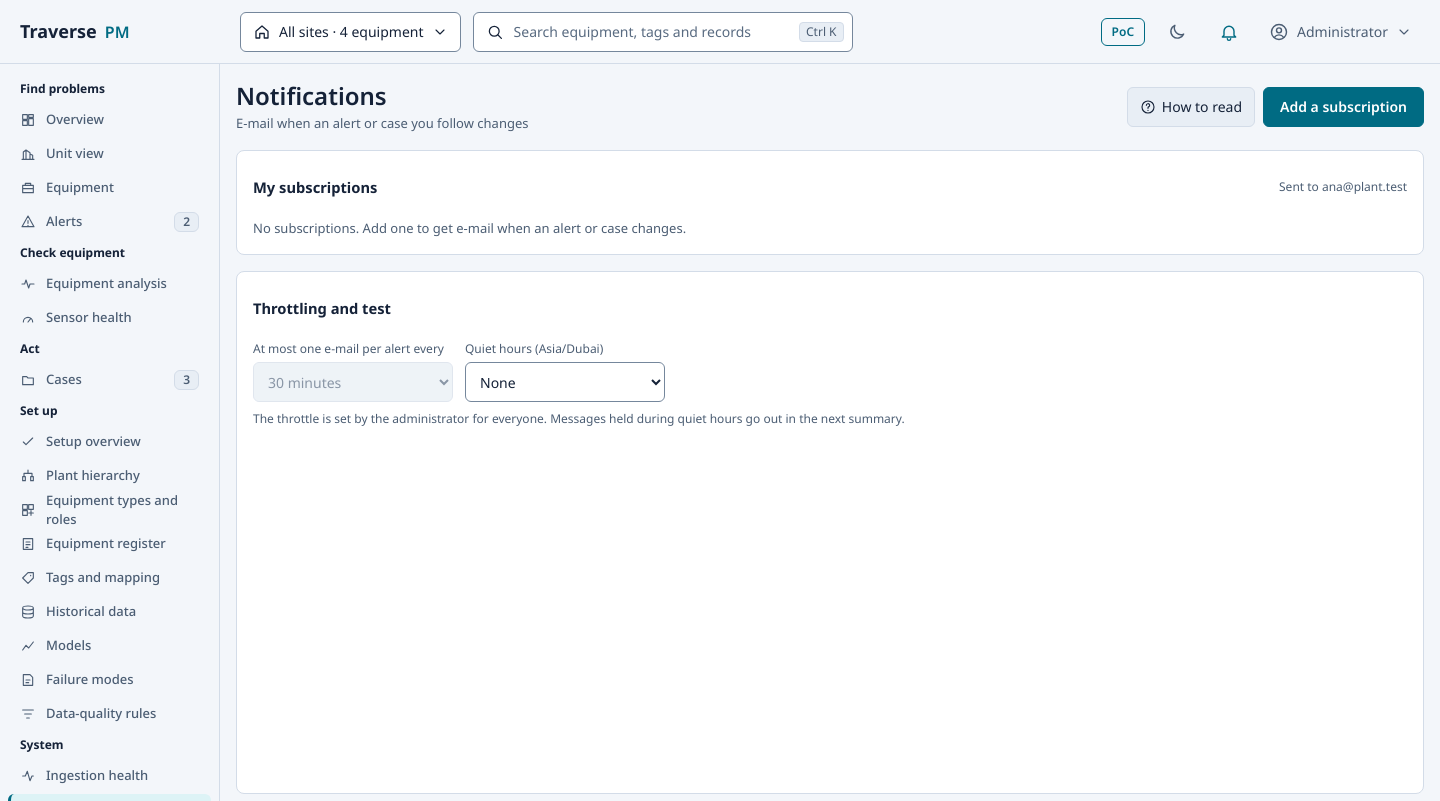
notifications › lets any user subscribe to their own e-mail notifications
Expected: the text "No subscriptions" is shown, [253, 218, 686, 236]
Expected: the text "Sent to ana@plant.test" is shown, [1279, 178, 1407, 196]
Click the button "Add a subscription". click: [1344, 107]
box: [1263, 87, 1424, 127]
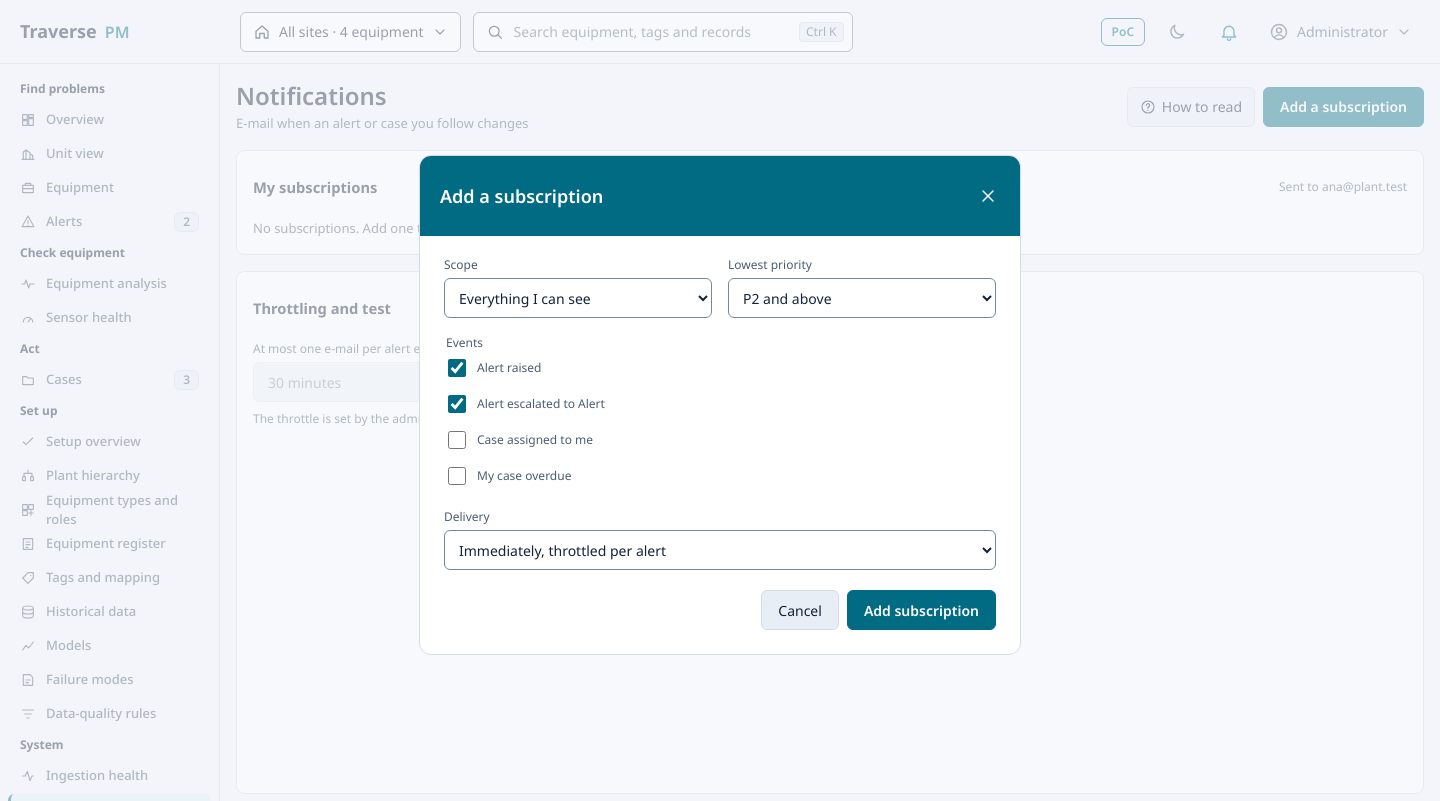
Select "P1 only" in the dropdown labelled "Lowest priority". click: [862, 298]
box: [728, 278, 996, 318]
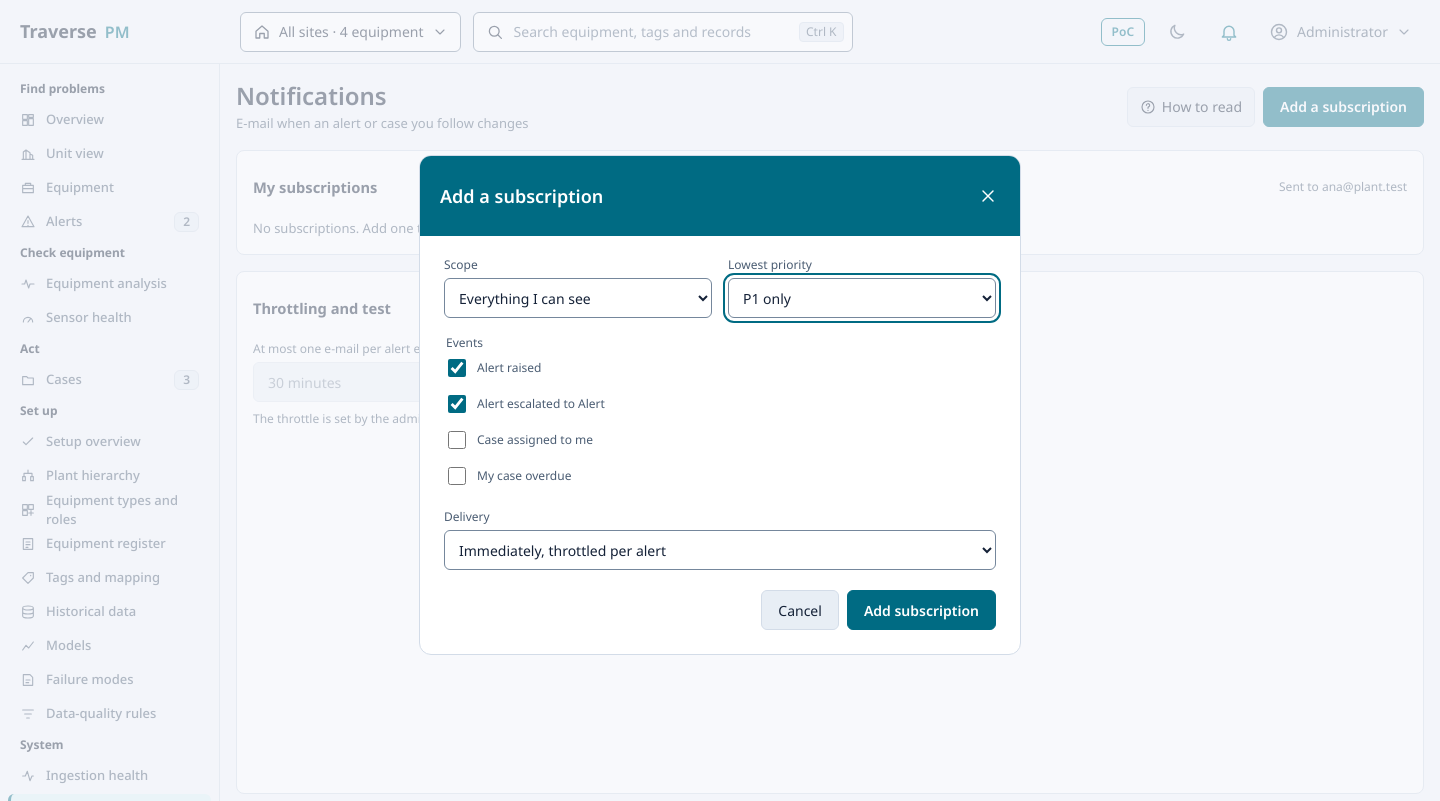
Click the checkbox labelled "Case assigned to me". click: [457, 440]
box: [448, 431, 466, 449]
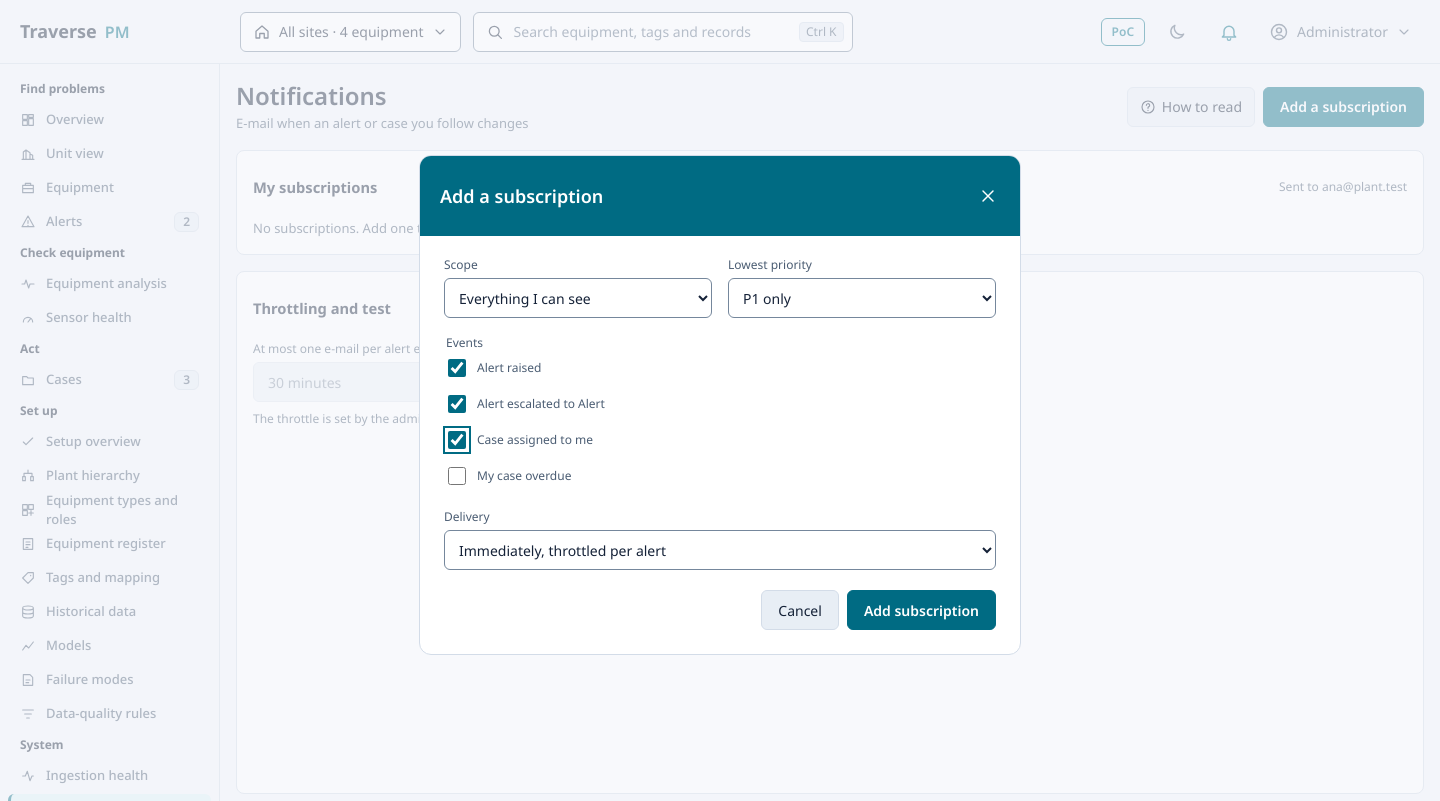
Click the button "Add subscription". click: [921, 610]
box: [847, 590, 996, 630]
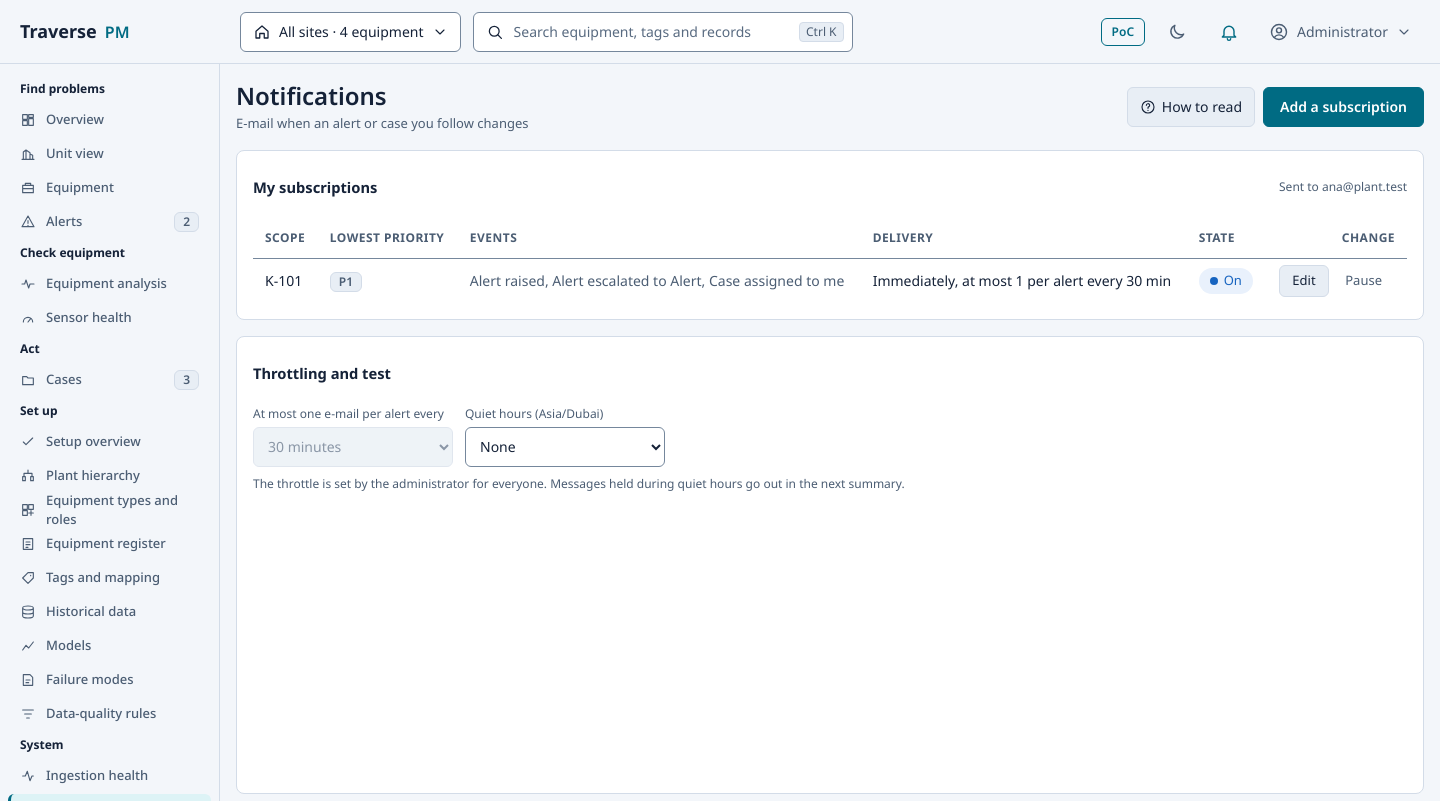
Expected: the text "Alert raised, Alert escalated to Alert, Case assigned to me" is shown, [458, 258, 861, 302]
